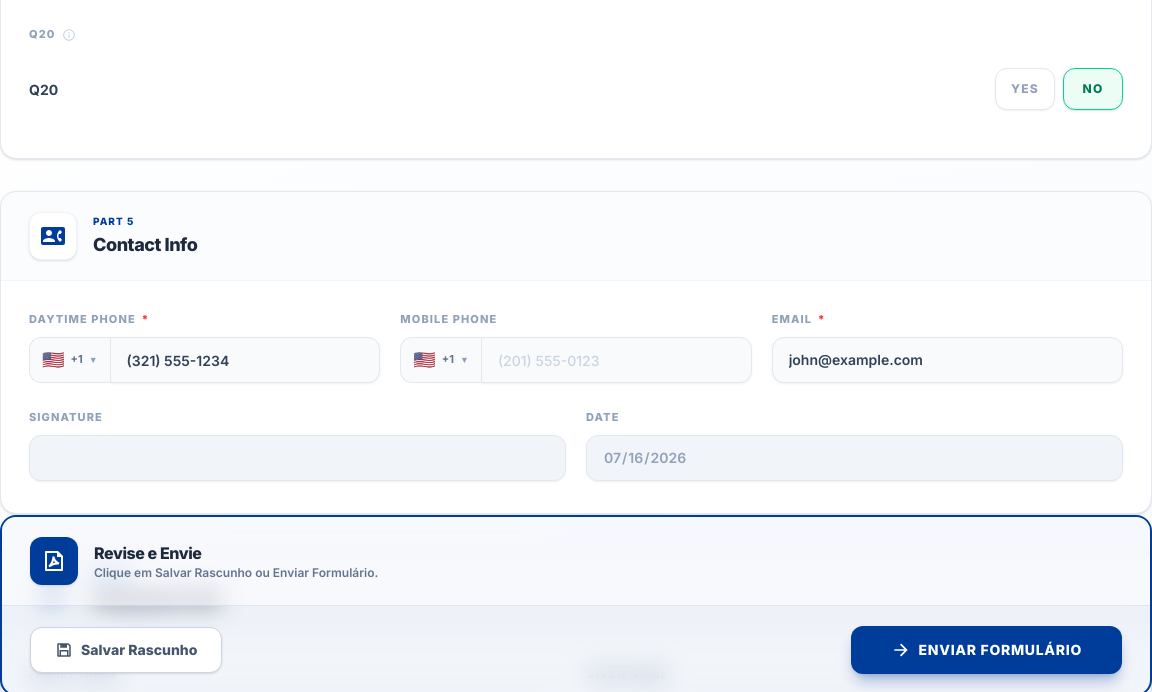
Test: I539FormStep › should apply phone mask correctly
(page scrolled)
Replace the text in the field named "daytimePhone" with "1234567890" at (245, 360), box [110,337,380,383]
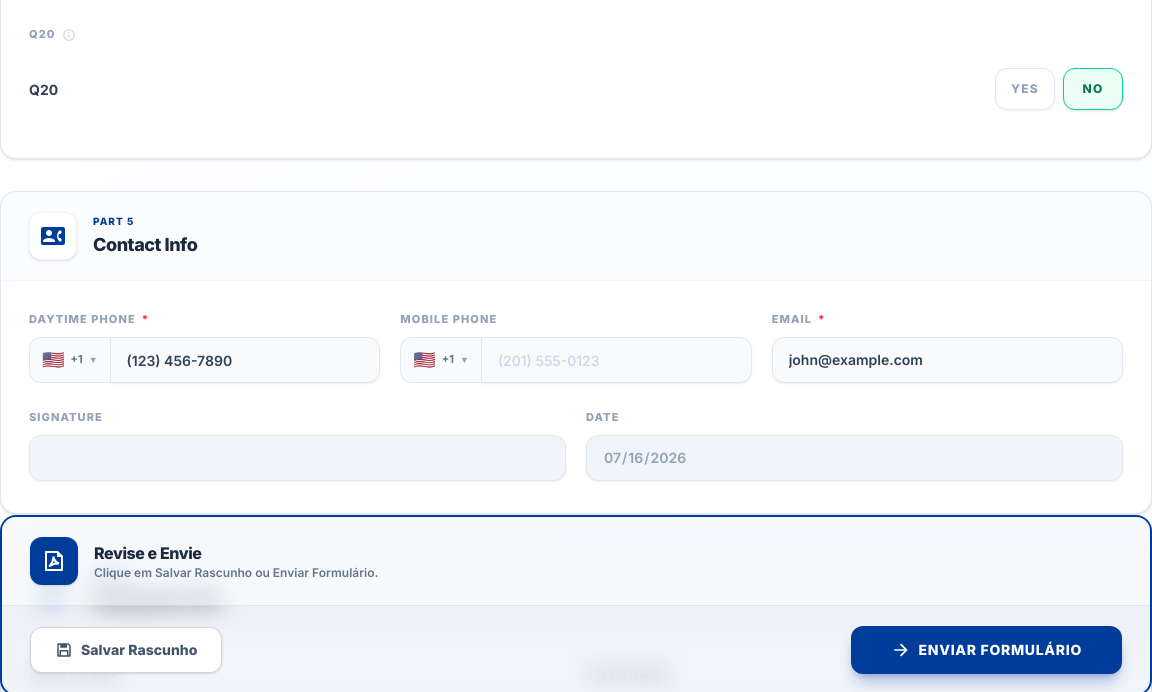
Check: the field named "daytimePhone" holds "(123) 456-7890", box [110,337,380,383]
